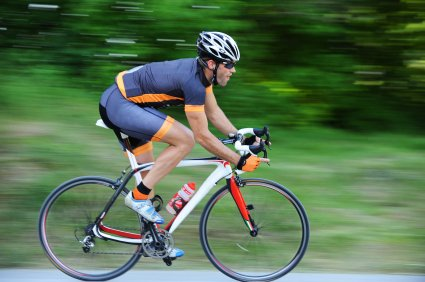with_helmet: (190, 30, 241, 63)
